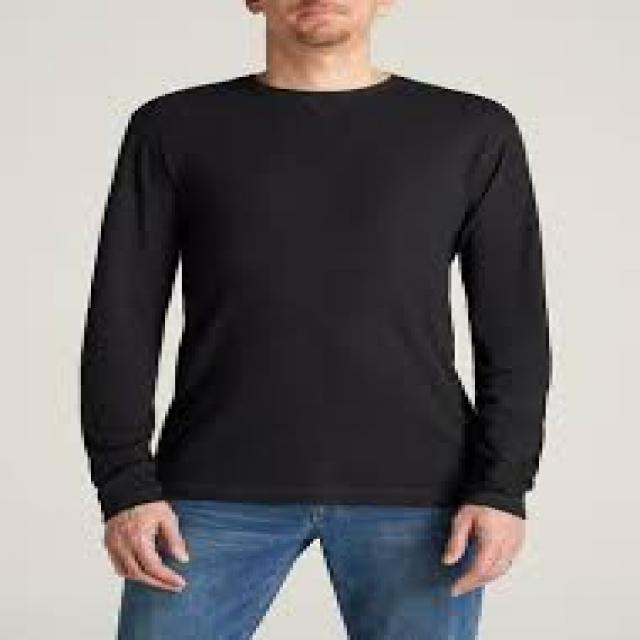plain: (80, 65, 549, 524)
